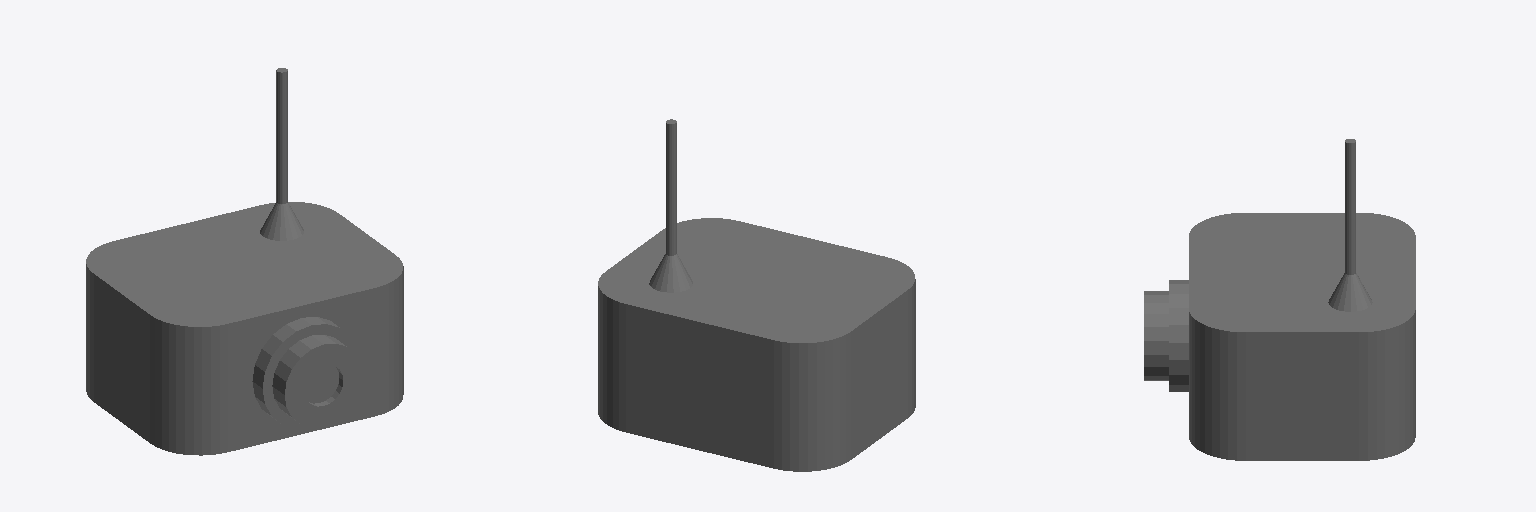
File: robotHead_high.obj
The picture shows the model from 3 angles: view 1: azimuth 30°, elevation 25°; view 2: azimuth 150°, elevation 25°; view 3: azimuth 270°, elevation 25°; orthographic projection.
Parts seen in each view (by area): view 1: robotHead_high:pCube3; view 2: robotHead_high:pCube3; view 3: robotHead_high:pCube3.
Part boxes in pixels (x1,y1,x2,y2): robotHead_high:pCube3: (86,68,403,455); robotHead_high:pCube3: (598,119,915,471); robotHead_high:pCube3: (1144,139,1415,460).
Size of the model in its own units: 1 by 1.13 by 0.9573.